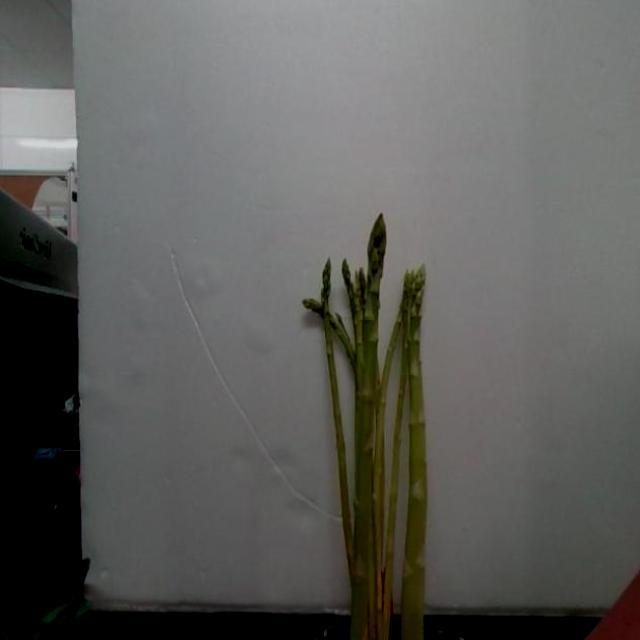aspargus: (348, 209, 390, 640)
